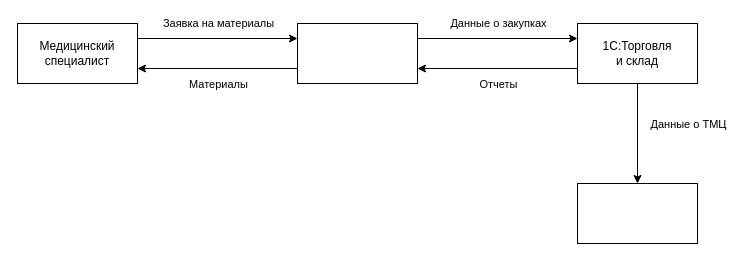
The diagram is 743 pixels wide and 261 high, and some of its shapes have lost their labels. The shapes that lost their labels are listed below. From the top down, each one's centre as x and y in pixels, then its label:
point (357, 53): Сотрудник склада
point (637, 213): 1С:Бухгалтерия предприятия
